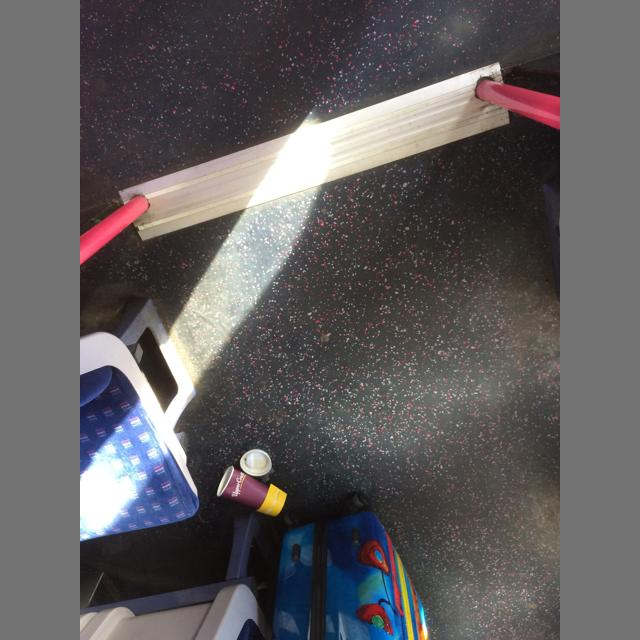litter: (217, 465, 269, 509), (256, 483, 287, 516), (240, 449, 272, 476)
